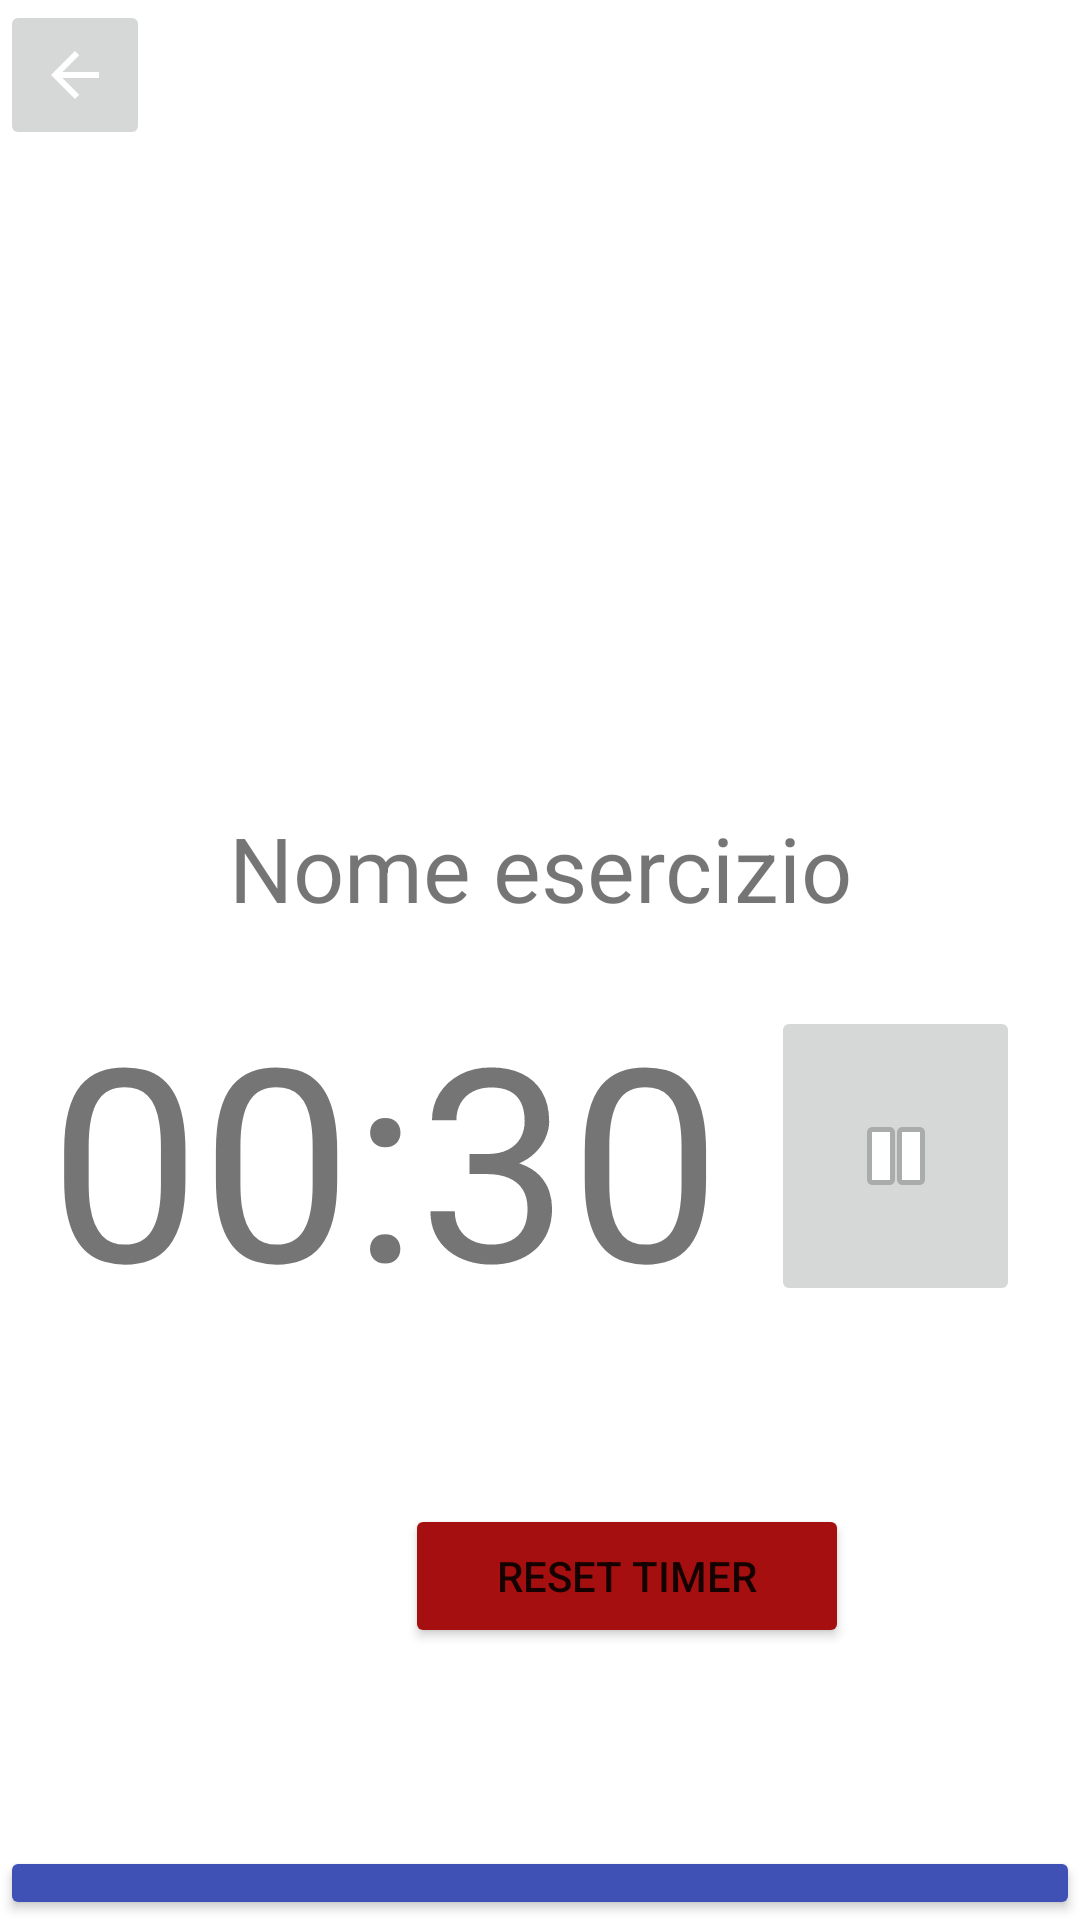

Icons on this 1080 × 1920 Android screen, each with its box as (x1, y1, x2, y2):
pause: (783, 1024, 1008, 1288)
